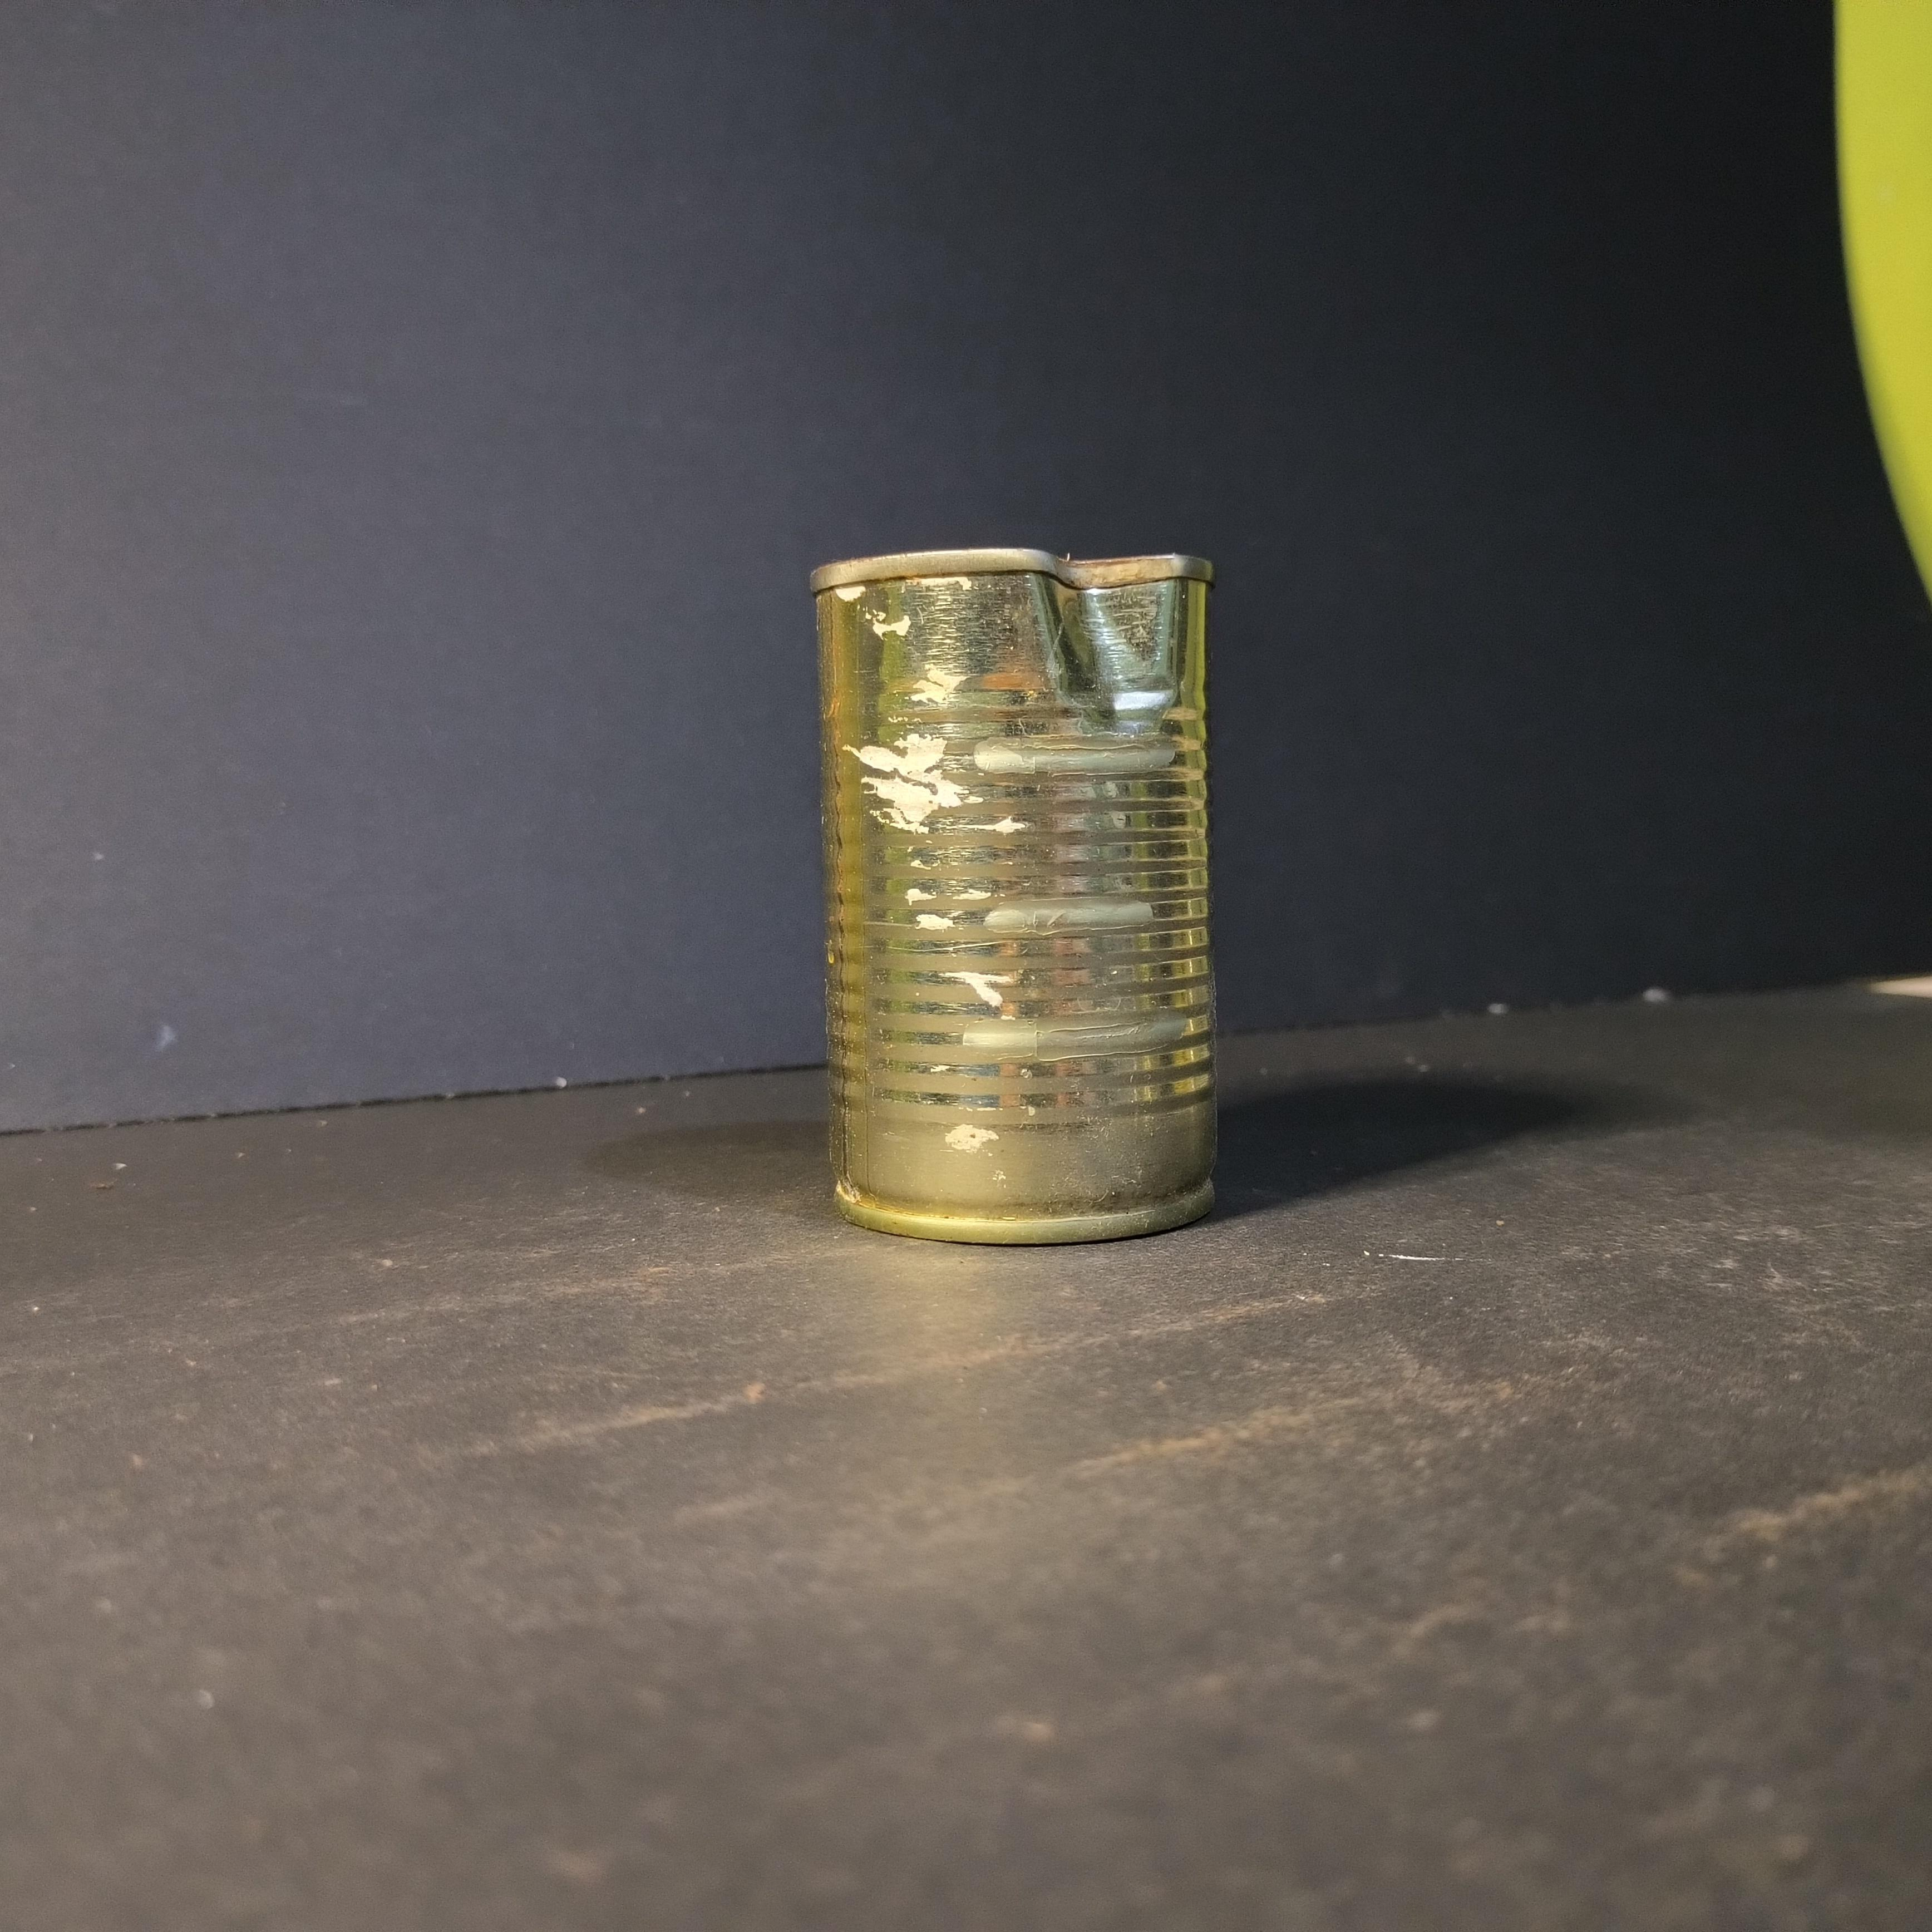Dented: (782, 529, 1274, 1286)
